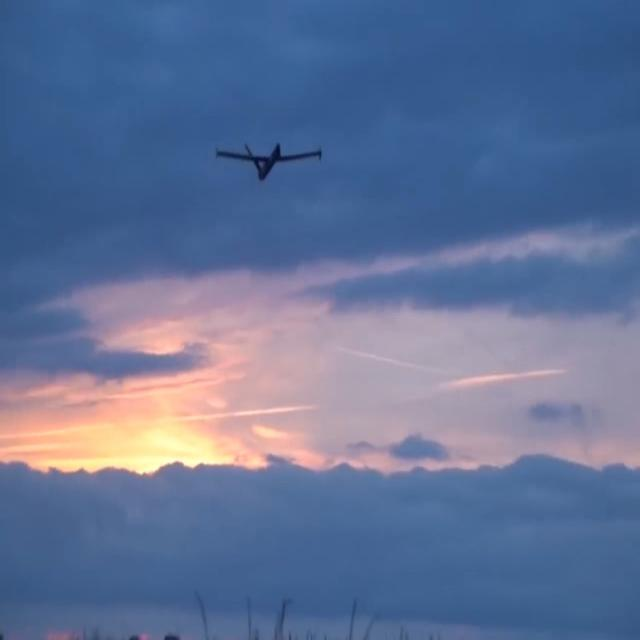iha: (238, 132, 285, 188)
